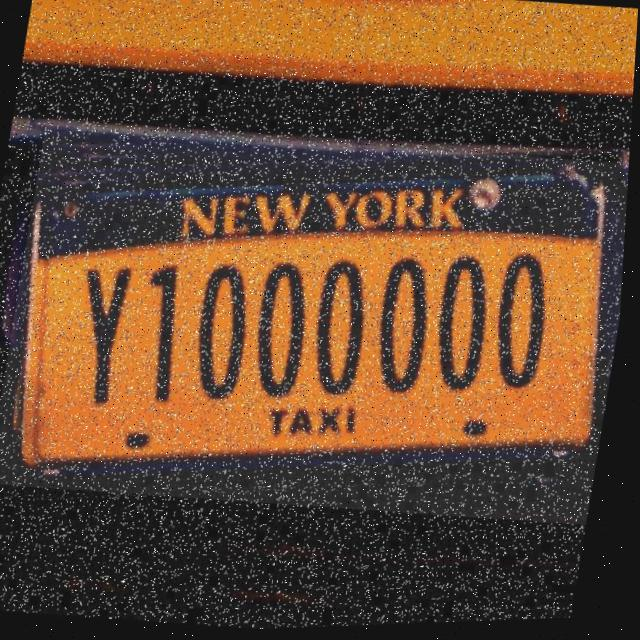LicensePlate: (0, 106, 634, 547)
